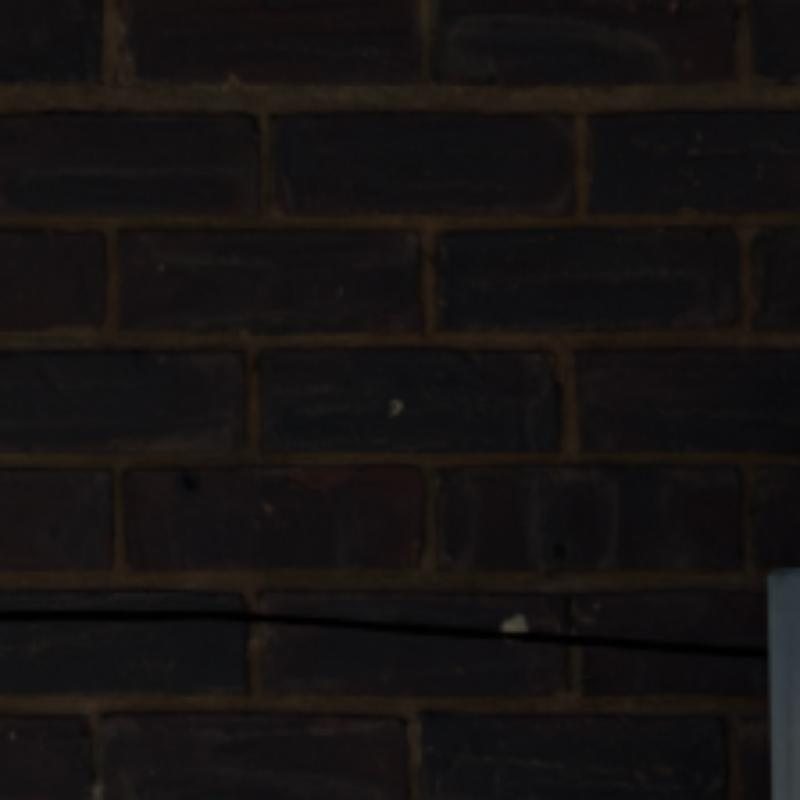pothole: (0, 607, 771, 661)
